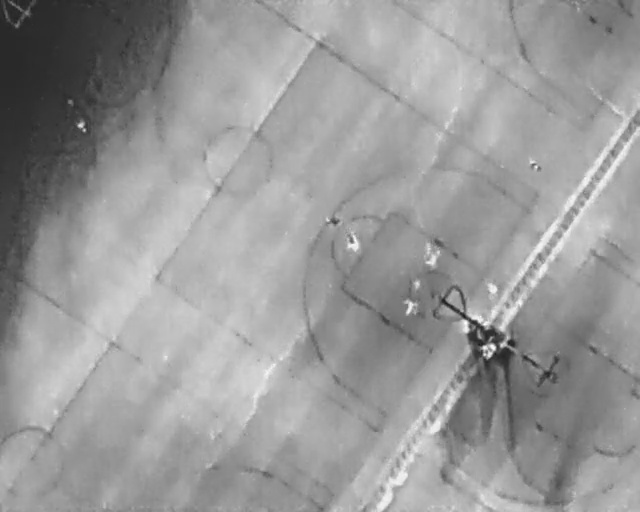Person: (418, 239, 444, 269), (395, 295, 420, 320), (341, 228, 362, 255), (523, 155, 545, 175), (478, 343, 497, 360), (73, 119, 89, 136), (324, 215, 342, 228), (486, 282, 498, 298)
